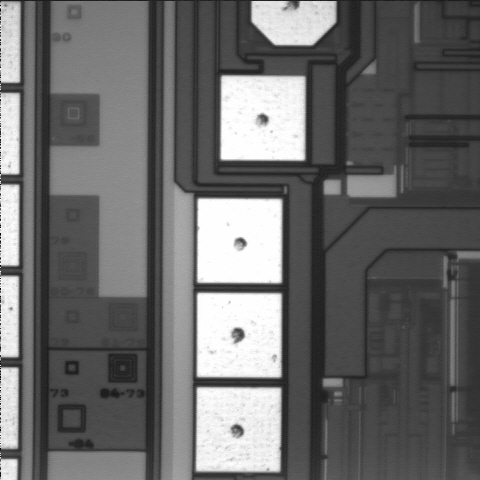pad: (197, 198, 282, 283), (196, 387, 281, 472), (221, 76, 305, 161), (197, 293, 282, 377)
